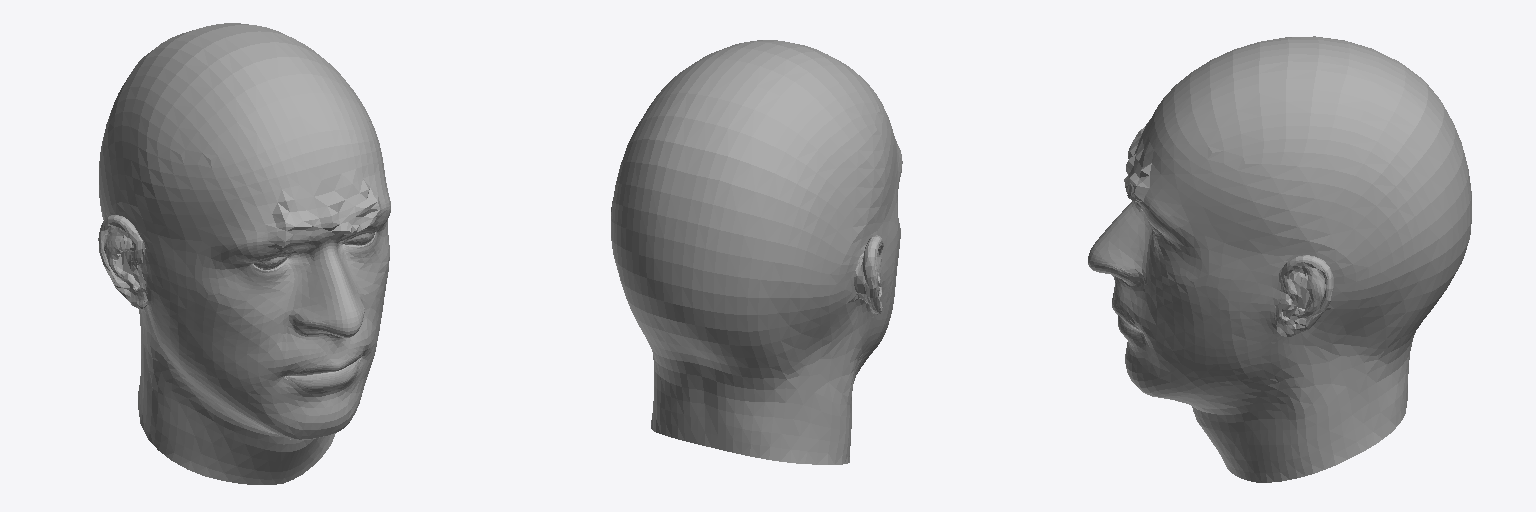
Rendered from White Guy Face6.obj.
The picture shows the model from 3 angles: view 1: azimuth 30°, elevation 25°; view 2: azimuth 150°, elevation 25°; view 3: azimuth 270°, elevation 25°; orthographic projection.
Parts seen in each view (by area): view 1: HeadHires; view 2: HeadHires; view 3: HeadHires.
Part boxes in pixels (left/top/right/bottom): HeadHires: left=98, top=23, right=390, bottom=484; HeadHires: left=611, top=40, right=902, bottom=464; HeadHires: left=1088, top=36, right=1471, bottom=482.
Size of the model in its own units: 189 by 282 by 237.